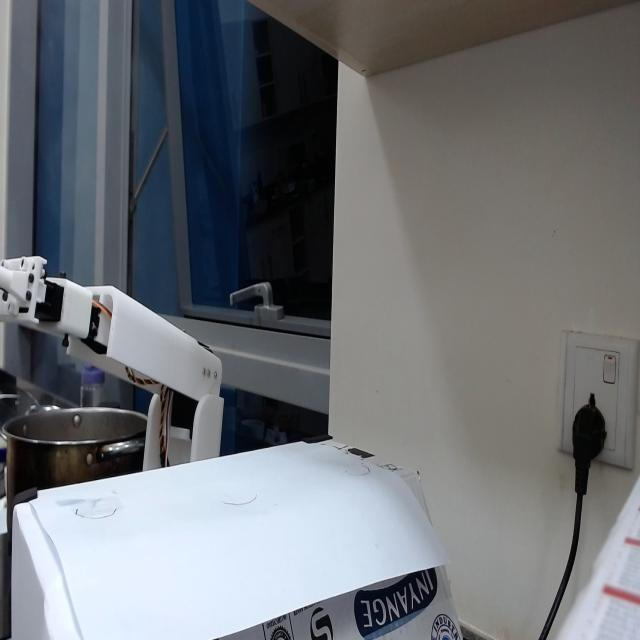cooking_pot: (2, 404, 155, 540)
